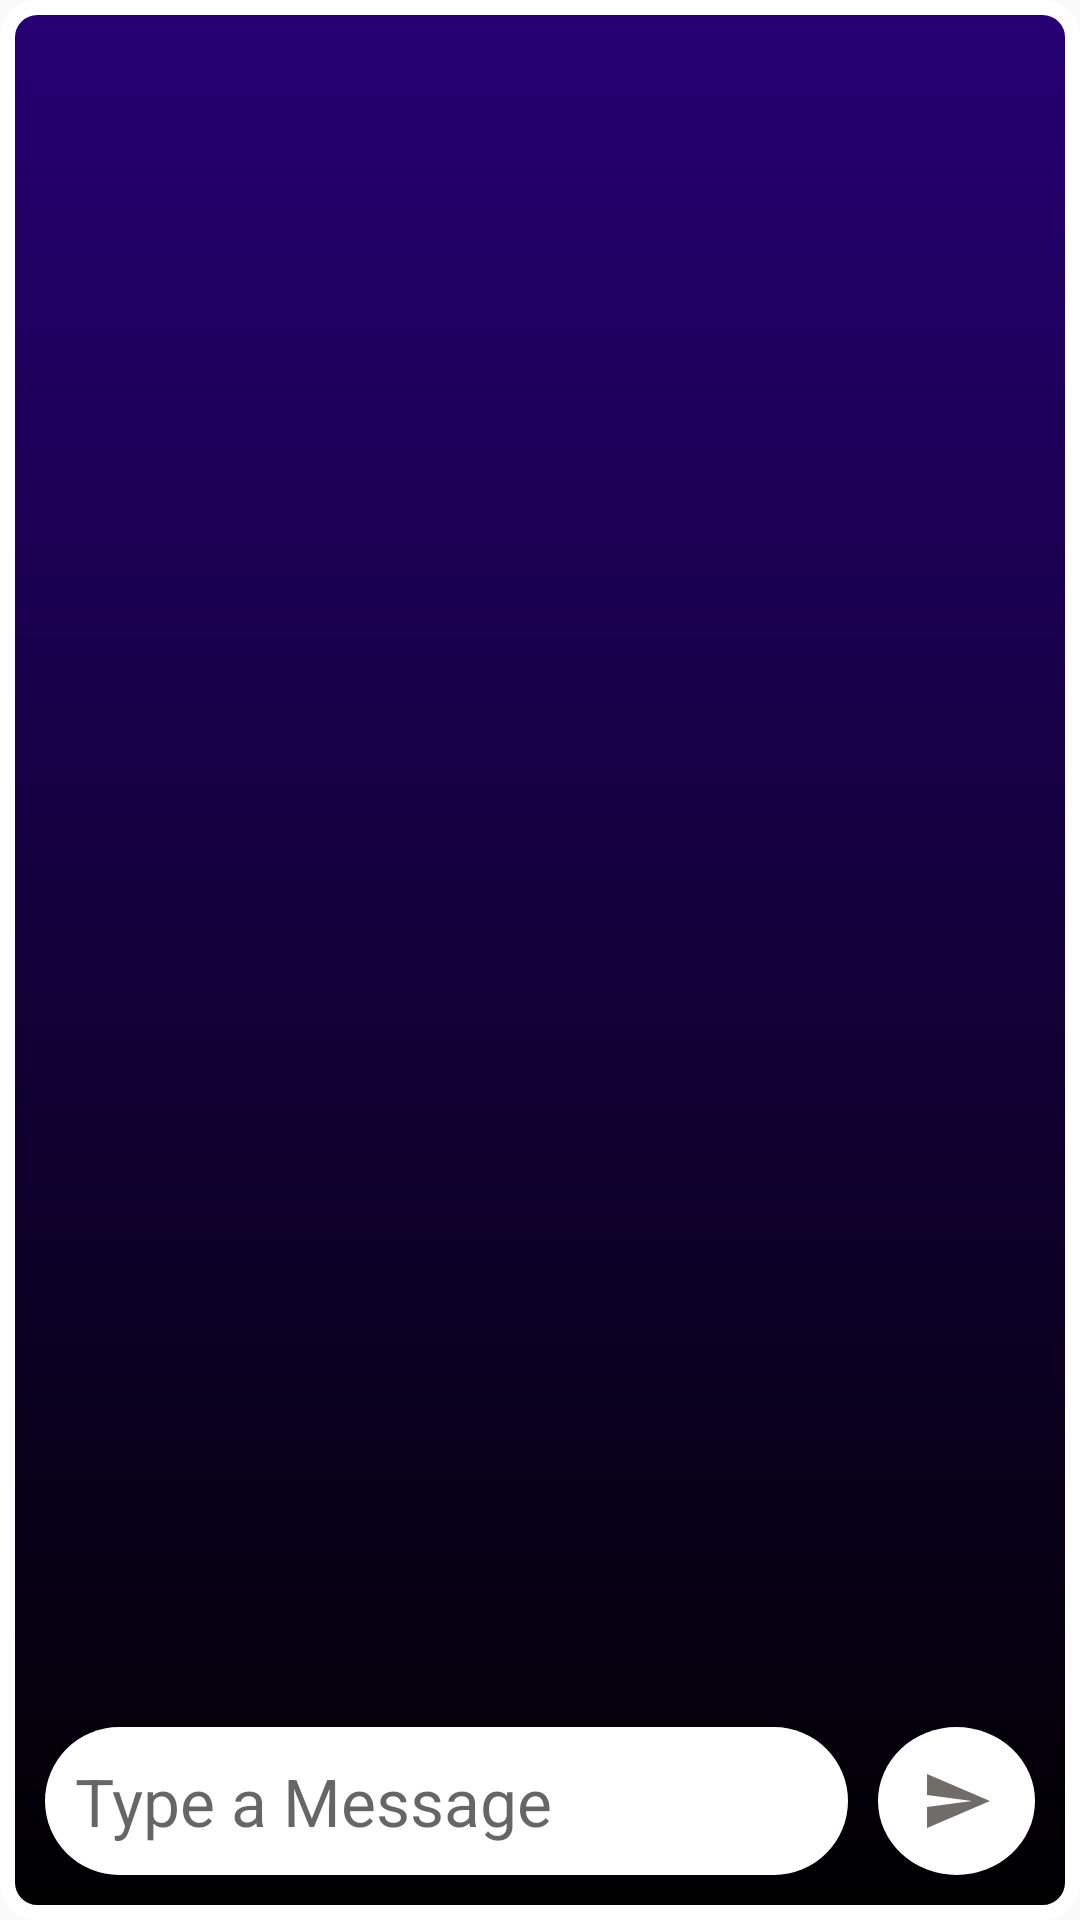

Point at icon controls on the screen. Image size 1080×1920, points as [x,y].
send: [956,1801]
